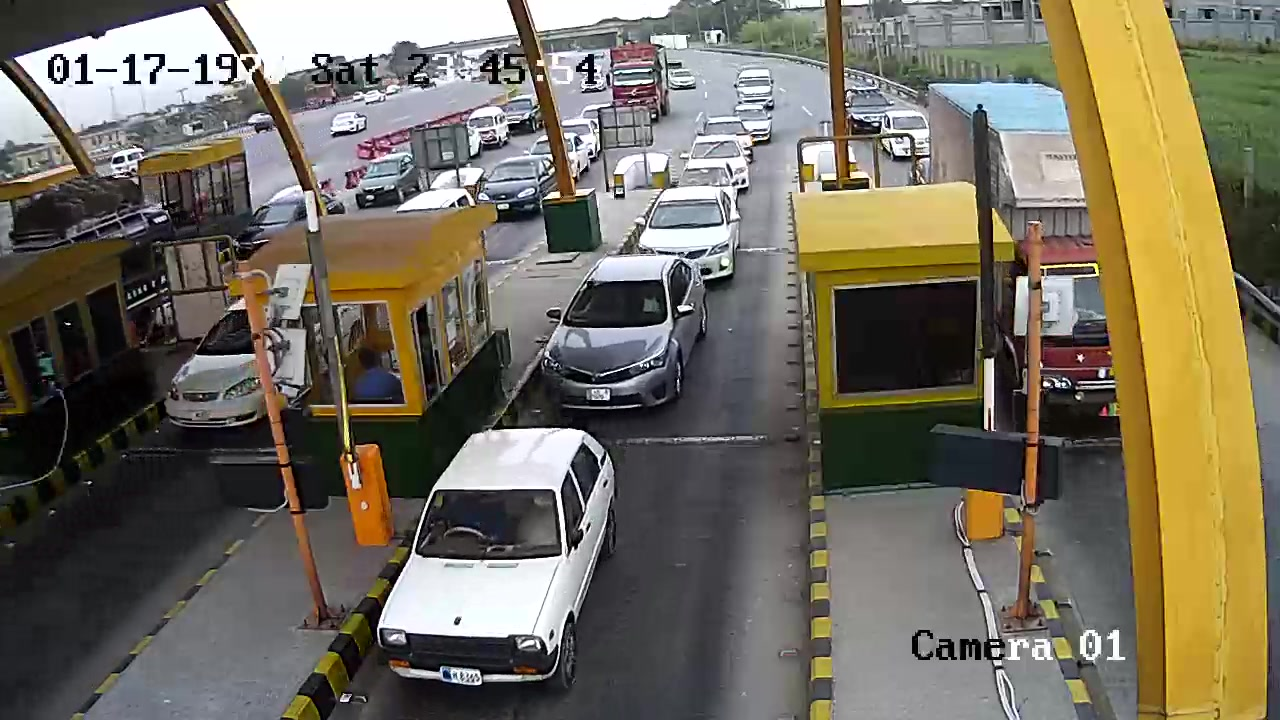F1: (365, 417, 654, 702), (517, 253, 722, 413)
